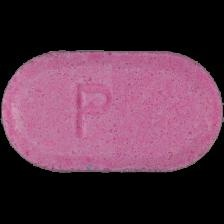68084-793: (0, 0, 224, 224)
